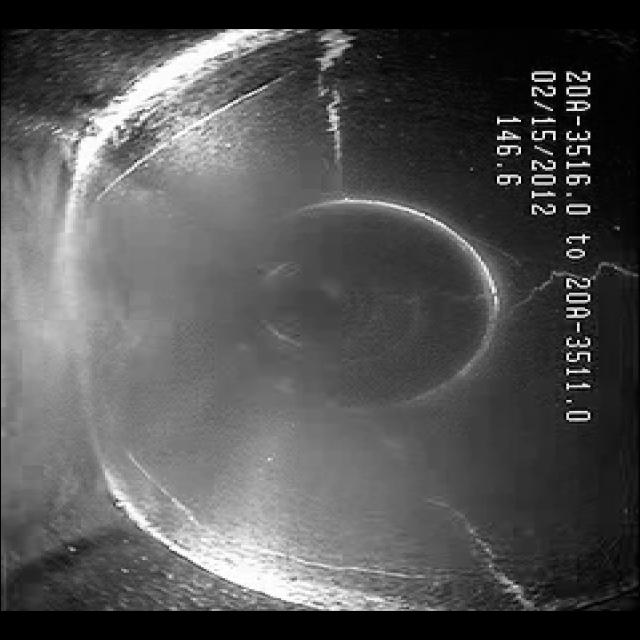Crack: (326, 502, 540, 604)
